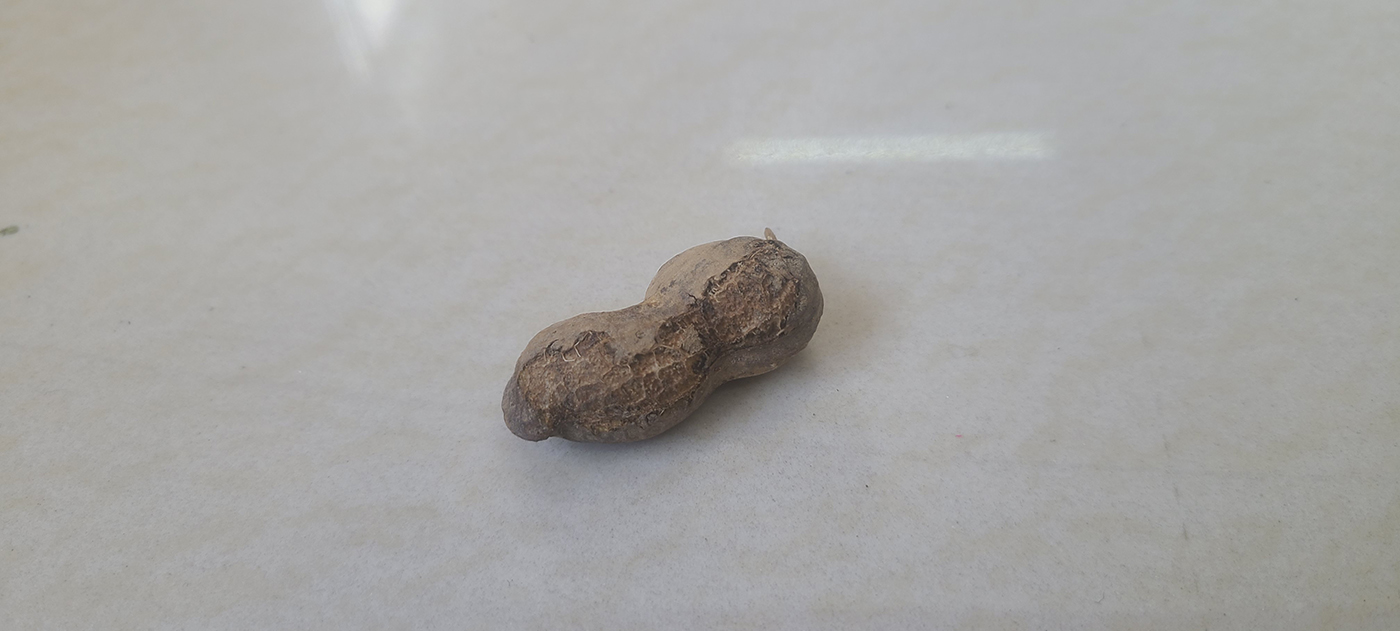l: (496, 232, 824, 449)
